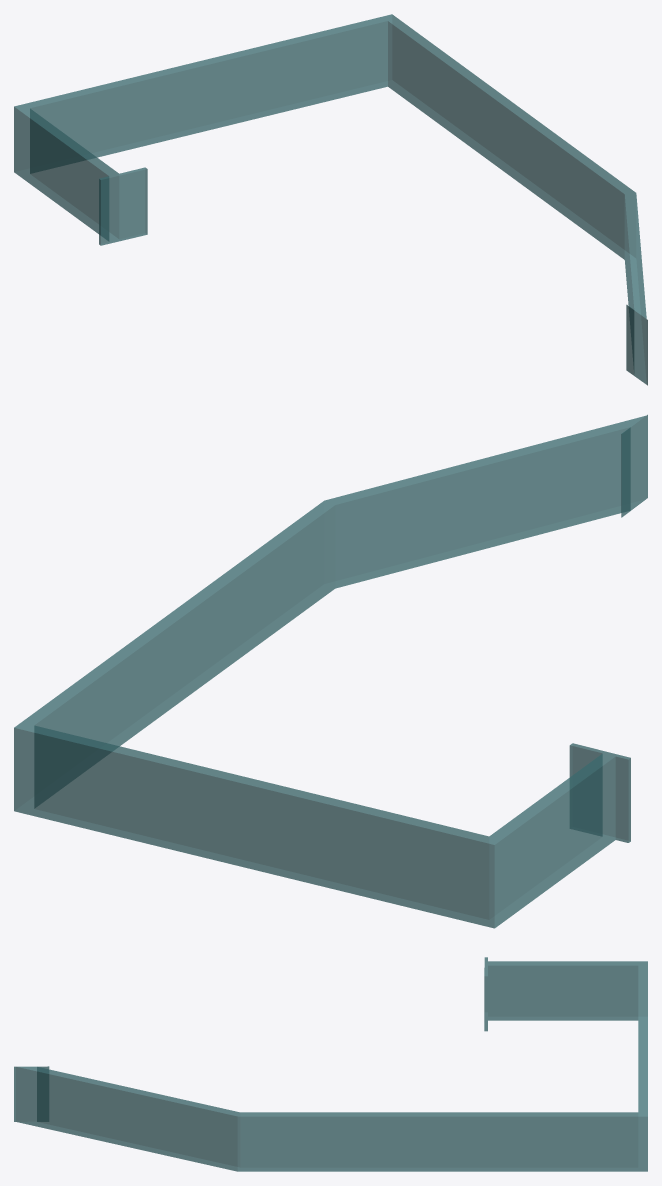
3 views of the same model, one above another, from view 1: azimuth 30°, elevation 25°; view 2: azimuth 150°, elevation 25°; view 3: azimuth 270°, elevation 25° (orthographic). The views are drawn at different scales.
Parts seen in each view (by area): view 1: B-FF-BALUSTRADE-a8bccbeb54d4; view 2: B-FF-BALUSTRADE-a8bccbeb54d4; view 3: B-FF-BALUSTRADE-a8bccbeb54d4.
Part boxes in pixels (x1,y1,x2,y2): B-FF-BALUSTRADE-a8bccbeb54d4: (14,14,647,385); B-FF-BALUSTRADE-a8bccbeb54d4: (14,414,647,928); B-FF-BALUSTRADE-a8bccbeb54d4: (14,957,647,1171).
Bounding box in the file's own units: 4.95 × 0.8 × 8.32.
